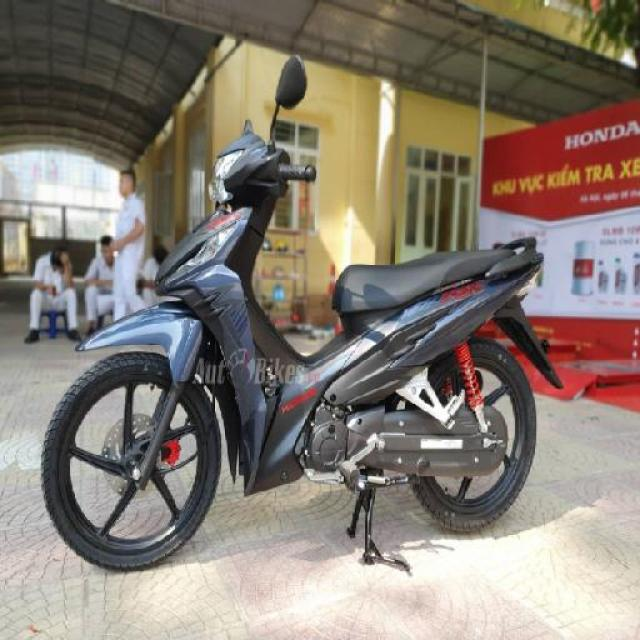All: (43, 55, 571, 572)
Head: (204, 127, 320, 209)
Tail: (482, 234, 549, 299)
